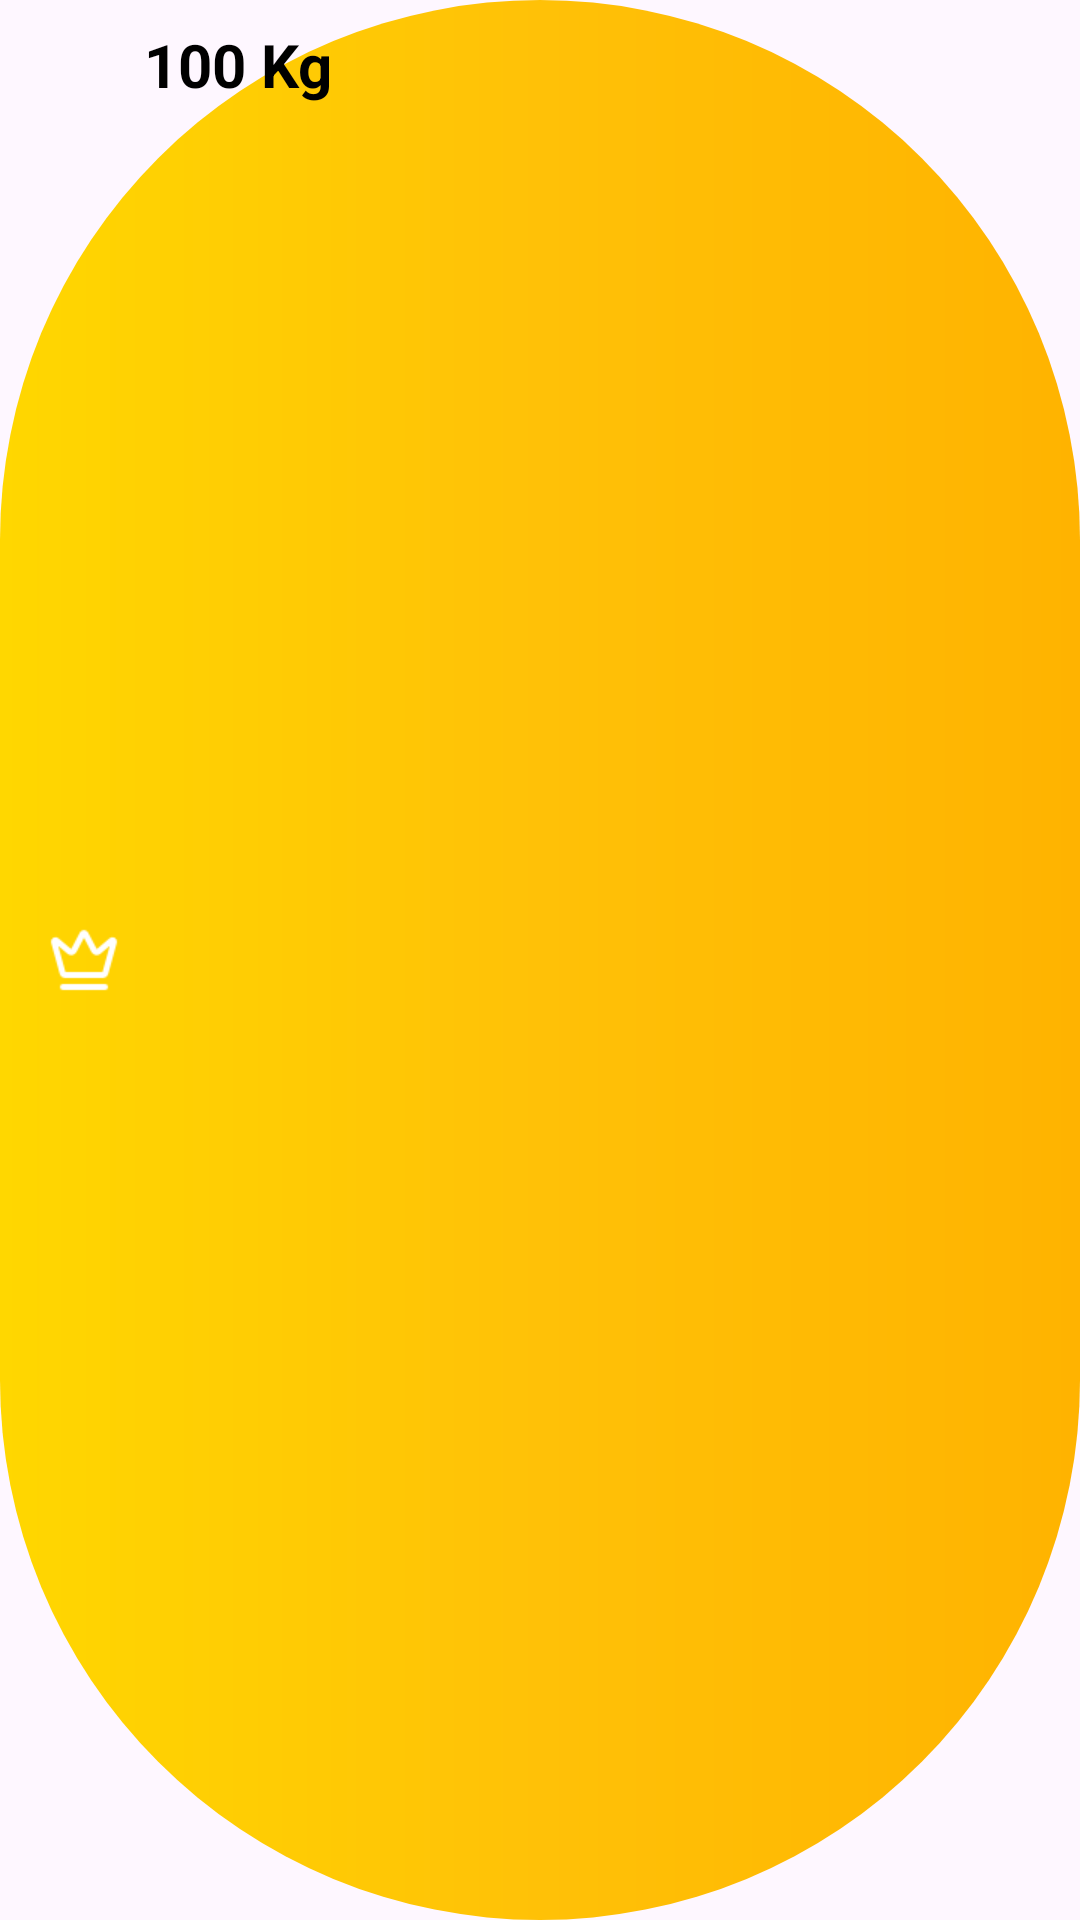

Locate icon controls on the screen. Image size 1080px x 1920px, boxes as [x1=x1, y1=y1, x2=x2, y2=y2].
crown: [x1=50, y1=929, x2=118, y2=991]
